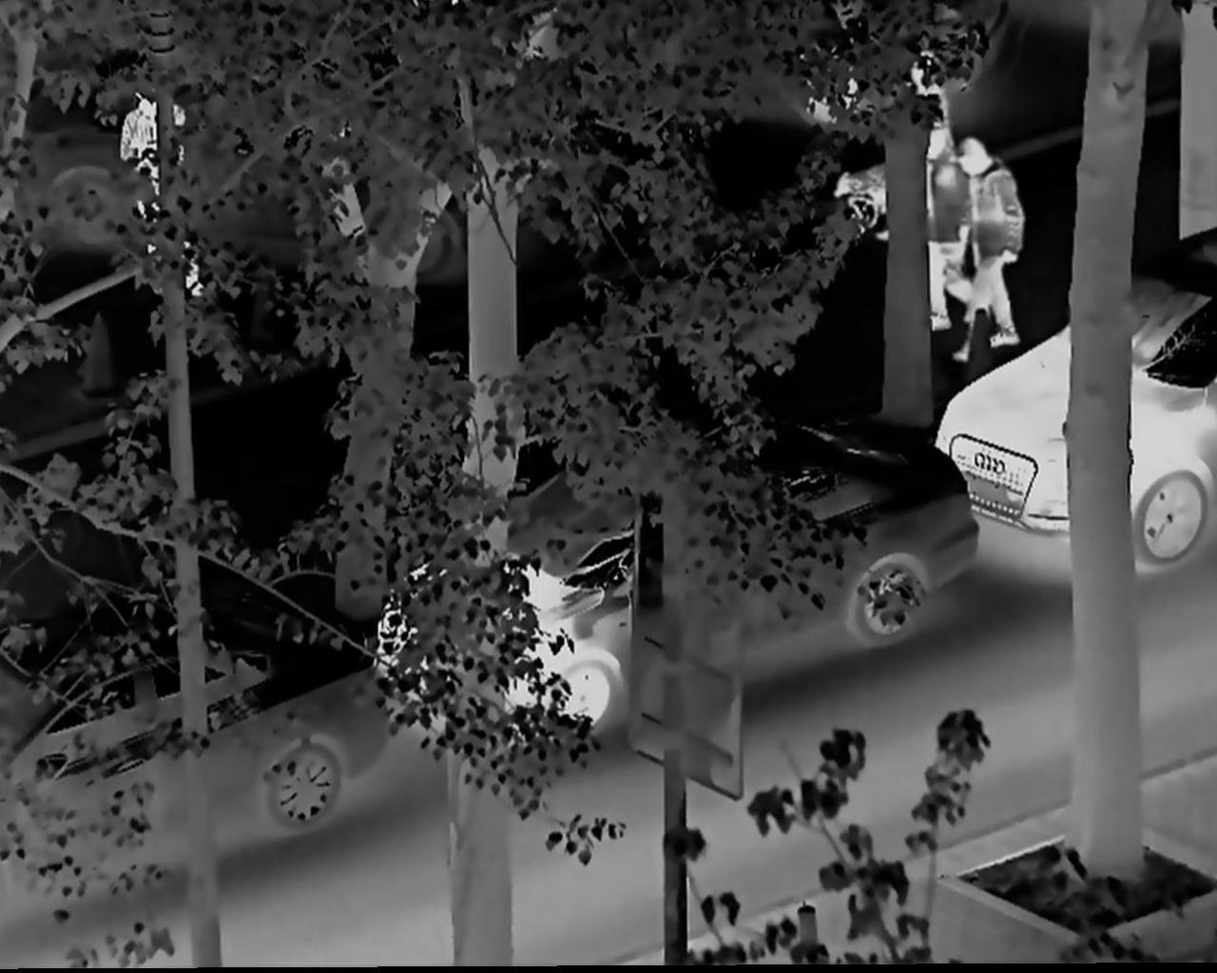person: (120, 83, 202, 296), (898, 119, 976, 328), (960, 138, 1025, 360)
